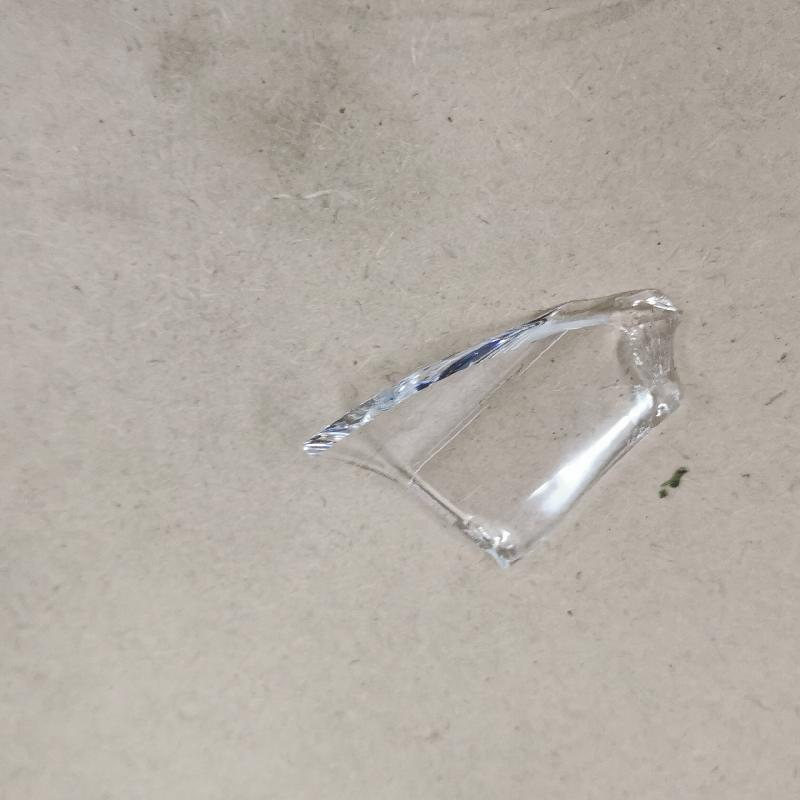glass: (302, 288, 686, 572)
